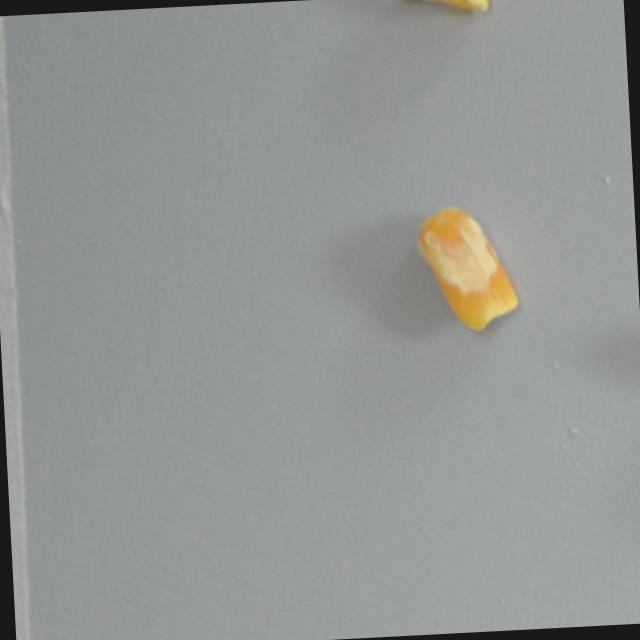dañado: (413, 199, 524, 339)
